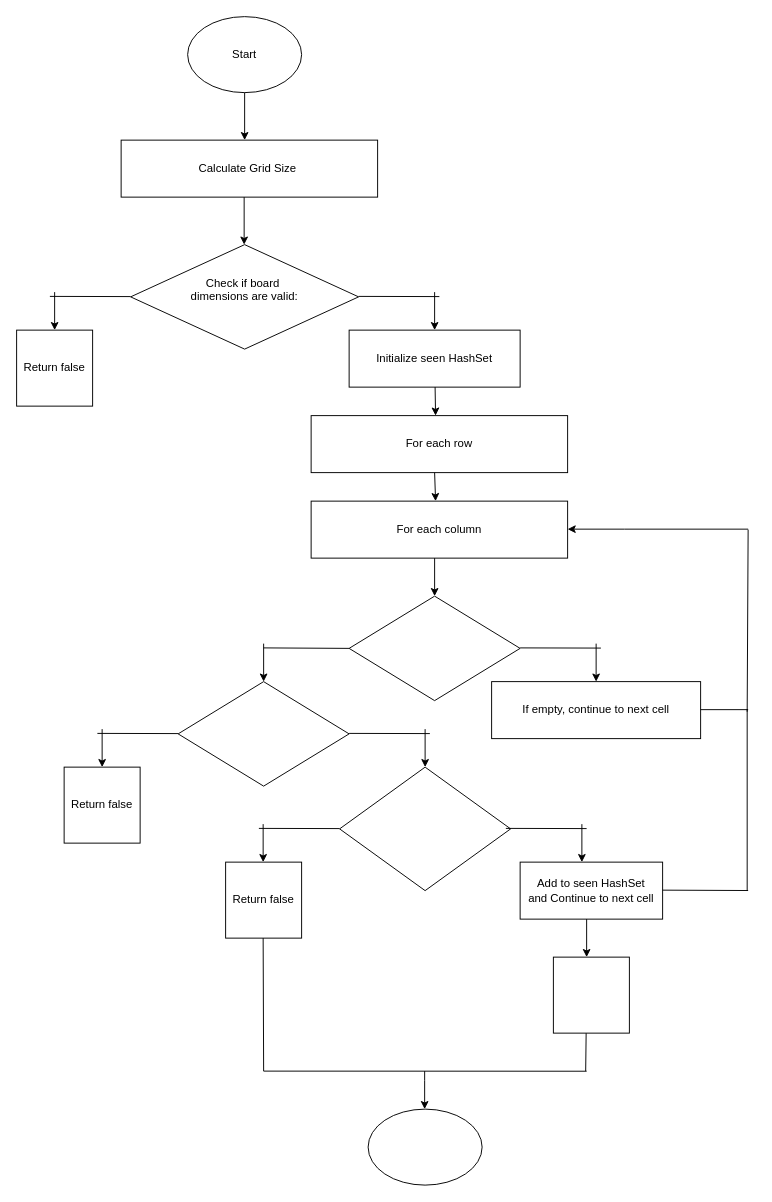
The diagram is 772 pixels wide and 1202 high, and some of its shapes have lost their labels. The centre of each missing label's shape, as x and y in pixels:
Check for duplicates in: - Row - Column - Subgrid: the point at 425,828
Check if cell value is not empty: the point at 434,648
Check if value is valid: the point at 263,733
End: the point at 424,1146
Return true after checking all cells: the point at 590,994
